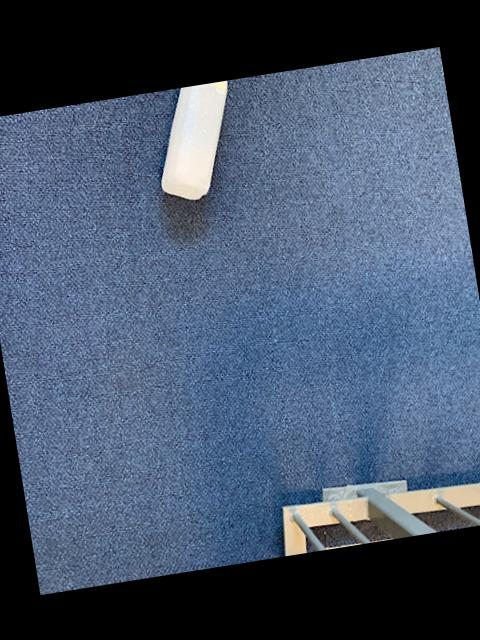plastic: (163, 79, 229, 199)
